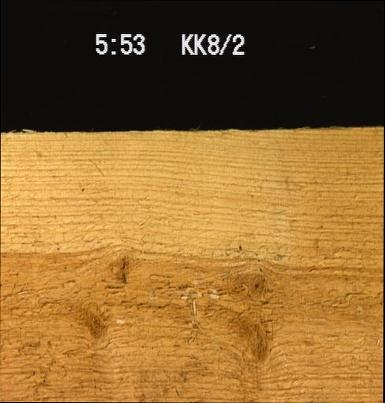sound_knot: (231, 308, 279, 363), (73, 303, 110, 339), (106, 253, 131, 289), (247, 269, 266, 296)
